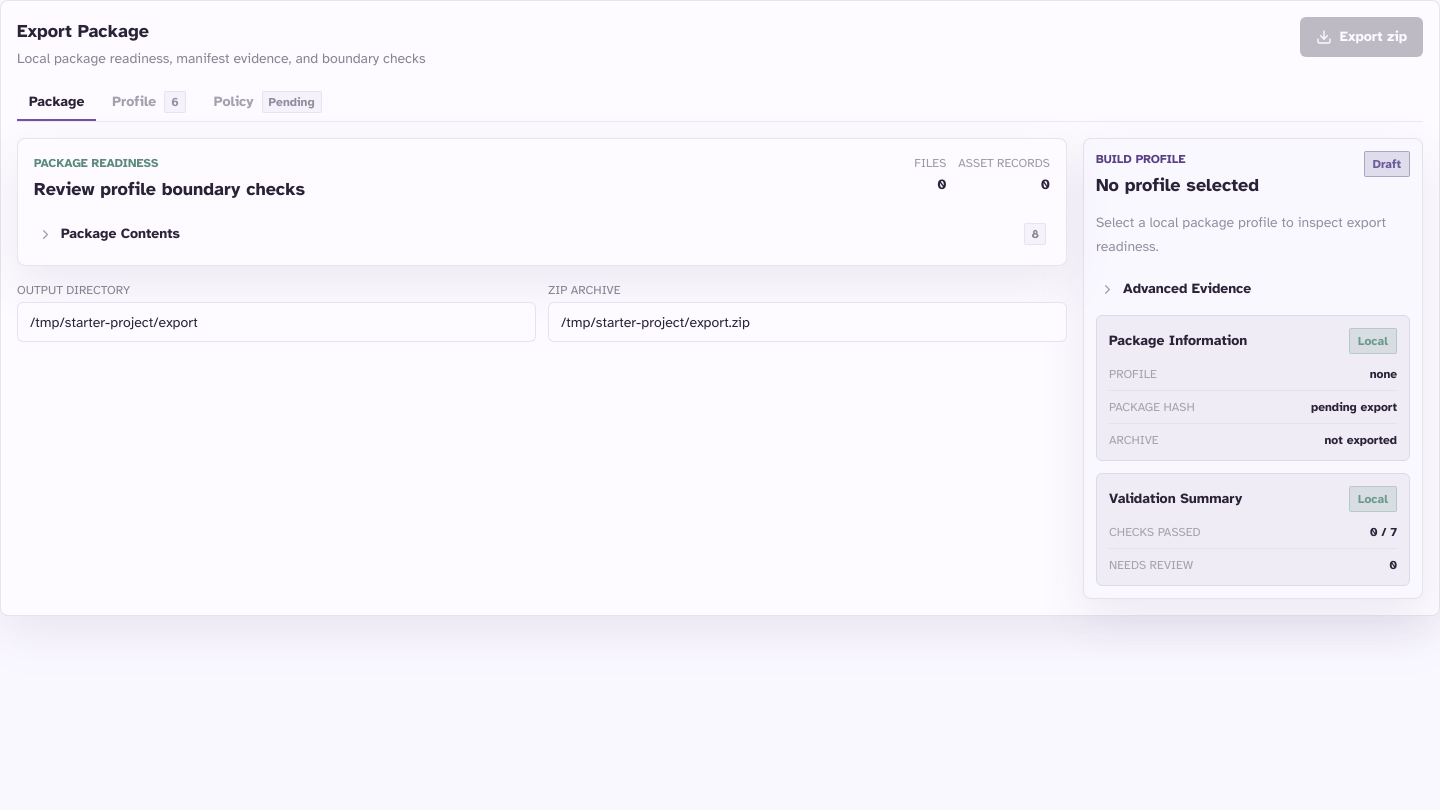
ExportView › lists all export profiles for selection
Click the tab "Profile 6" at [149, 103], box [100,85,198,121]
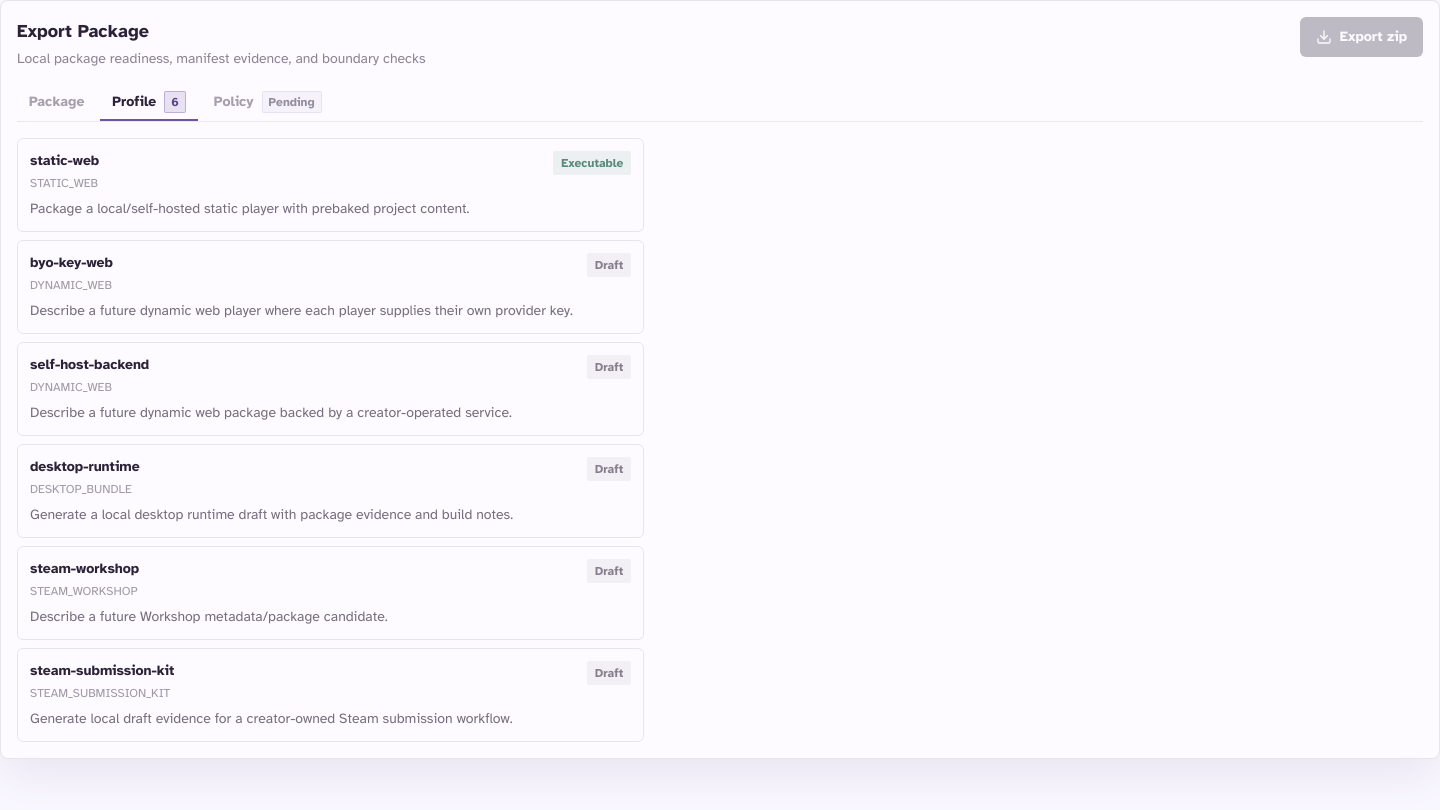
Result: the button with aria-label "Select export profile static-web" is shown at [17,138,644,232]
